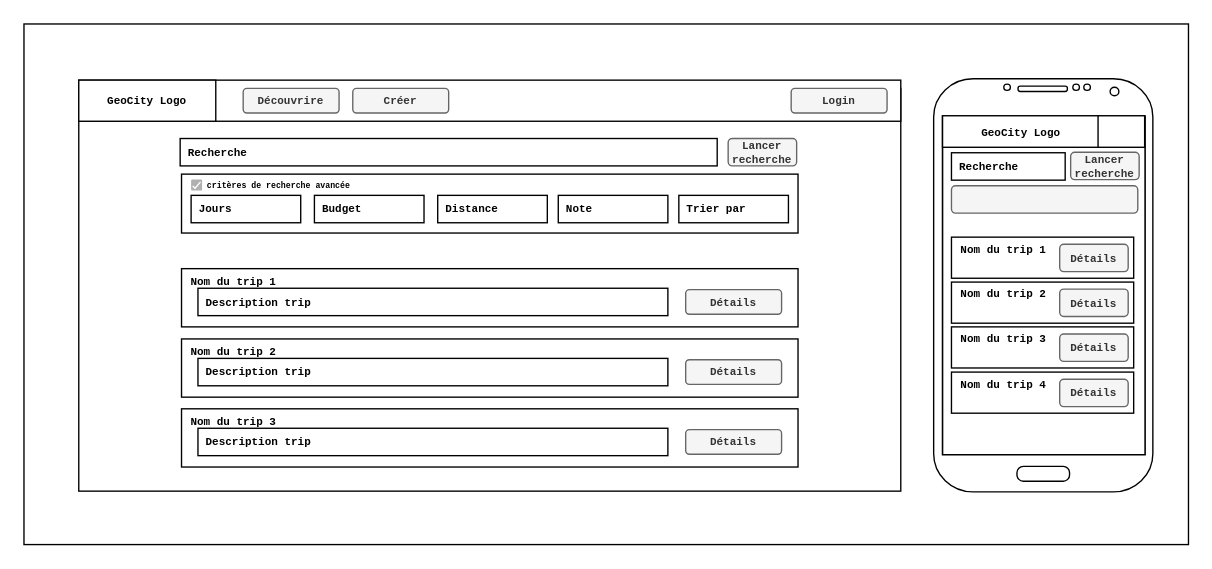
Image size: 1212x569. Some labels were removed from this diagram. The centre of each missing label's shape, as x and y in pixels:
"Menu" goes at point (1121, 130).
"Recherche avancée" goes at point (1044, 198).
